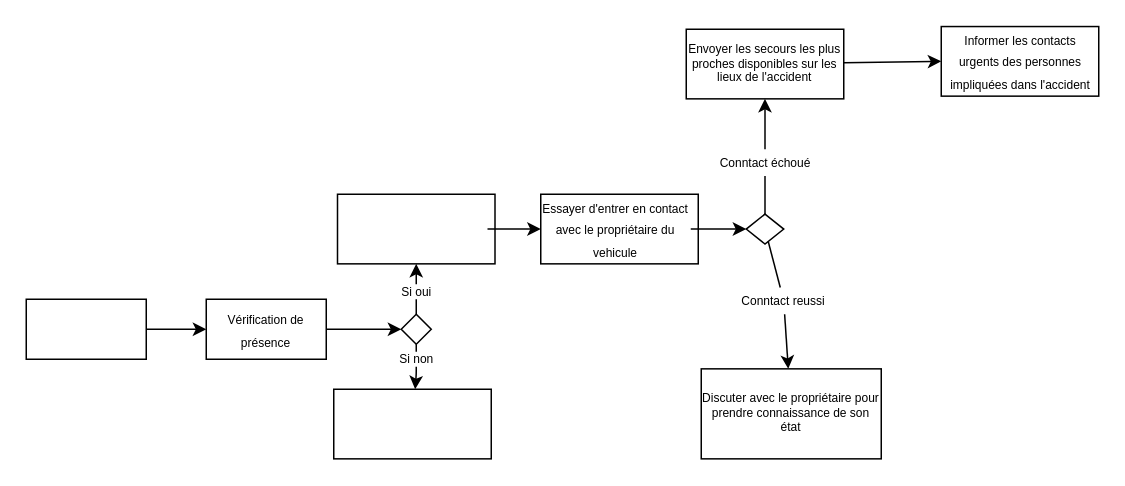
Some shapes in this 1125 by 486 pixel diagram are drawn without their labels. The centre of each missing label's shape, as x and y in pixels:
Alerter les secours les plus proches: point (415, 228)
Détection d'un accident: point (85, 328)
Informer le propriétaire du vehicule: point (411, 423)
